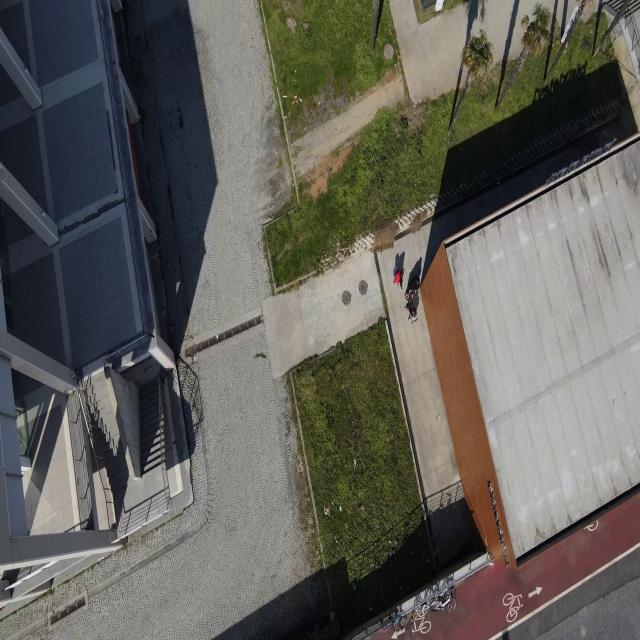p3rson: (405, 276, 420, 299), (404, 302, 418, 321), (393, 268, 403, 289)
